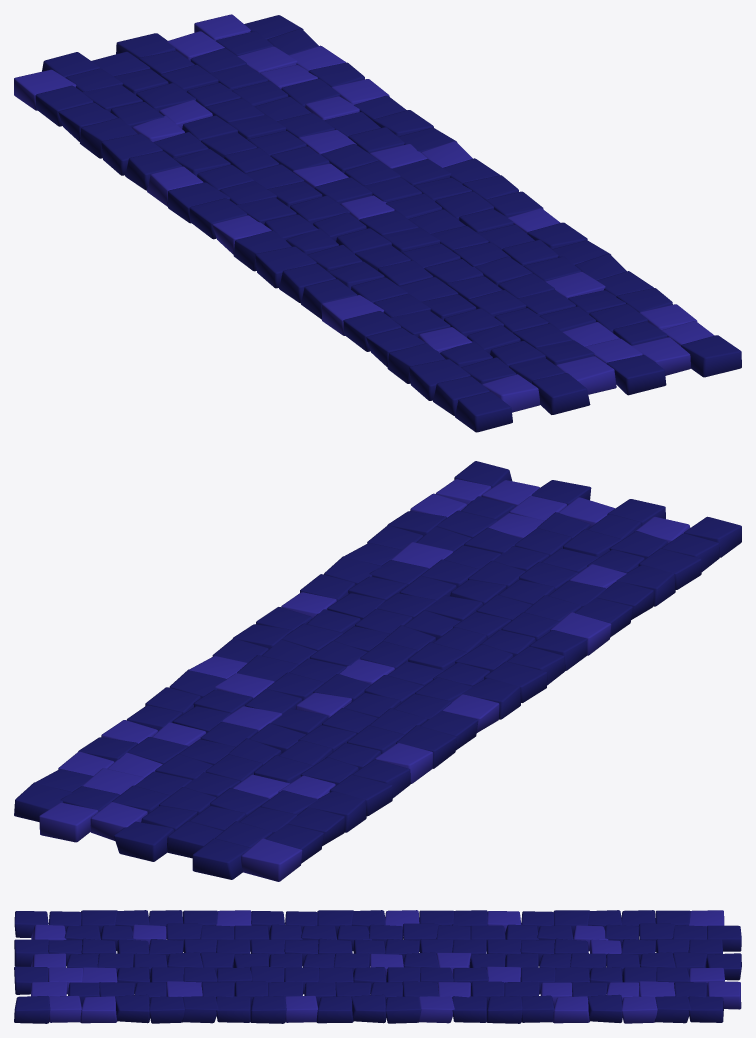
The model's file is floor.fbx.
3 views of the same model, one above another, from view 1: azimuth 30°, elevation 25°; view 2: azimuth 150°, elevation 25°; view 3: azimuth 270°, elevation 25° (orthographic). The views are drawn at different scales.
Parts seen in each view (by area): view 1: Cube.173; view 2: Cube.173; view 3: Cube.173.
Boxes of the visible parts, bbox=[...] form: Cube.173: bbox=[14, 14, 741, 432]; Cube.173: bbox=[14, 461, 741, 881]; Cube.173: bbox=[14, 910, 741, 1023].
Bounding box in the file's own units: 1364 × 98.13 × 4142.
